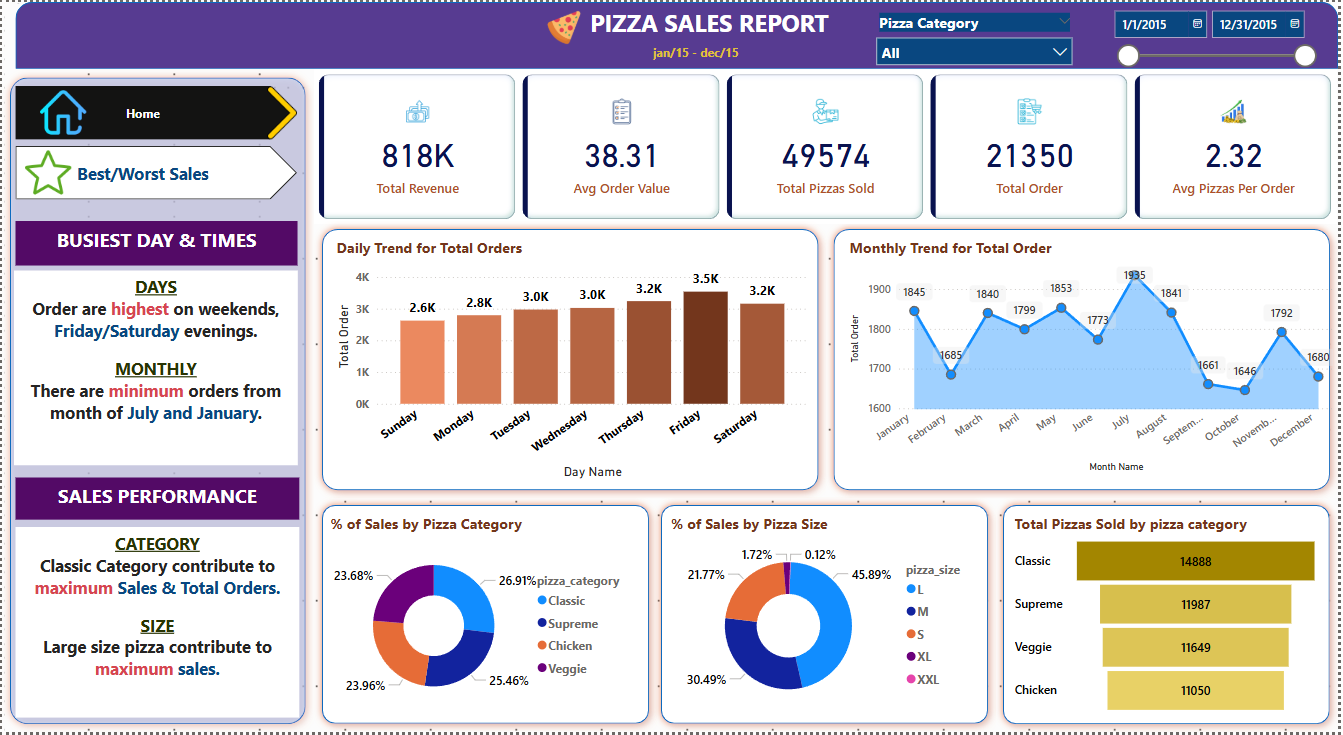

Layout of this report page (visuals, bound fields, positions):
{"tool":"powerbi","page":{"name":"Home","canvas":[1500,820],"ordinal":0},"visuals":[{"type":"shape","box":[924.4,245.3,575.4,311.3],"z":0},{"type":"cardVisual","fields":{"Data":["pizza_sales.Total Revenue","pizza_sales.Avg Order Value","pizza_sales.Total Pizzas Sold","pizza_sales.Total Order","pizza_sales.Avg Pizzas Per Order"]},"box":[350.9,75.5,1148.9,173.6],"z":1000},{"type":"shape","box":[15,0,1485,75],"z":2000},{"type":"textbox","box":[654.6,0,292.4,60.4],"z":3000},{"type":"image","box":[606.8,0,48.7,57.6],"z":4000},{"type":"textbox","box":[726.3,41.5,124.5,34],"z":5000},{"type":"shape","box":[350.9,245.3,575.4,311.3],"z":6000},{"type":"columnChart","title":"Daily Trend for Total Orders","fields":{"Category":["pizza_sales.Day"],"Y":["pizza_sales.Total Order"]},"box":[369.8,264.1,539.6,275.4],"z":7000},{"type":"areaChart","title":"Monthly Trend for Total Order","fields":{"Y":["pizza_sales.Total Order"],"Category":["pizza_sales.Month Name"]},"box":[947,264.1,552.8,267.9],"z":8000},{"type":"shape","box":[349.9,555.9,385.3,263.5],"z":9000},{"type":"shape","box":[1115,556.5,384.9,264.1],"z":10000},{"type":"shape","box":[730.8,555.9,385.3,263.5],"z":11000},{"type":"donutChart","title":"% of Sales by Pizza Category","fields":{"Category":["pizza_sales.pizza_category"],"Y":["pizza_sales.Total Revenue"]},"box":[363.2,573.6,356.5,230.3],"z":12000},{"type":"donutChart","title":"% of Sales by Pizza Size","fields":{"Category":["pizza_sales.pizza_size"],"Y":["pizza_sales.Total Revenue"]},"box":[746.3,573.6,356.5,230.3],"z":13000},{"type":"funnel","title":"Total Pizzas Sold by pizza category","fields":{"Category":["pizza_sales.pizza_category"],"Y":["pizza_sales.Total Pizzas Sold"]},"box":[1131.7,573.6,352.1,230.3],"z":14000},{"type":"shape","box":[0,75.3,349.9,744.1],"z":15000},{"type":"textbox","box":[15.1,245.3,316.9,50],"z":16000},{"type":"textbox","box":[14.3,301.4,318.6,218.6],"z":17000},{"type":"textbox","box":[15.7,534.3,318.6,47.1],"z":18000},{"type":"textbox","box":[15.7,590,318.6,214.3],"z":19000},{"type":"slicer","fields":{"Values":["pizza_sales.pizza_category"]},"box":[972,6,240,64],"z":20000},{"type":"slicer","fields":{"Values":["pizza_sales.order_date"]},"box":[1236,0,248,94],"z":21000},{"type":"pageNavigator","box":[15.1,94.3,316,60],"z":22000},{"type":"pageNavigator","box":[15.1,162.2,316,60],"z":23000},{"type":"image","box":[279.2,81.1,69.8,86.8],"z":24000},{"type":"image","box":[32.1,92.4,73.6,62.3],"z":25000},{"type":"image","box":[15.1,160.4,73.6,62.3],"z":26000}]}

Visuals, with their boxes in screenshot pixels (x1, y1, x2, y2), scaled from the page's 1500x820 canvas onto the 1343x735 screenshot:
shape: <region>828, 220, 1342, 499</region>
cardVisual - pizza_sales.Total Revenue x pizza_sales.Avg Order Value: <region>314, 68, 1342, 223</region>
shape: <region>13, 0, 1342, 67</region>
textbox: <region>586, 0, 848, 54</region>
image: <region>543, 0, 587, 52</region>
textbox: <region>650, 37, 762, 68</region>
shape: <region>314, 220, 829, 499</region>
"Daily Trend for Total Orders" columnChart: <region>331, 237, 814, 484</region>
"Monthly Trend for Total Order" areaChart: <region>848, 237, 1342, 477</region>
shape: <region>313, 498, 658, 734</region>
shape: <region>998, 499, 1342, 734</region>
shape: <region>654, 498, 999, 734</region>
"% of Sales by Pizza Category" donutChart: <region>325, 514, 644, 721</region>
"% of Sales by Pizza Size" donutChart: <region>668, 514, 987, 721</region>
"Total Pizzas Sold by pizza category" funnel: <region>1013, 514, 1328, 721</region>
shape: <region>0, 67, 313, 734</region>
textbox: <region>14, 220, 297, 265</region>
textbox: <region>13, 270, 298, 466</region>
textbox: <region>14, 479, 299, 521</region>
textbox: <region>14, 529, 299, 721</region>
slicer - pizza_sales.pizza_category: <region>870, 5, 1085, 63</region>
slicer - pizza_sales.order_date: <region>1107, 0, 1329, 84</region>
pageNavigator: <region>14, 85, 296, 138</region>
pageNavigator: <region>14, 145, 296, 199</region>
image: <region>250, 73, 312, 150</region>
image: <region>29, 83, 95, 139</region>
image: <region>14, 144, 79, 200</region>
